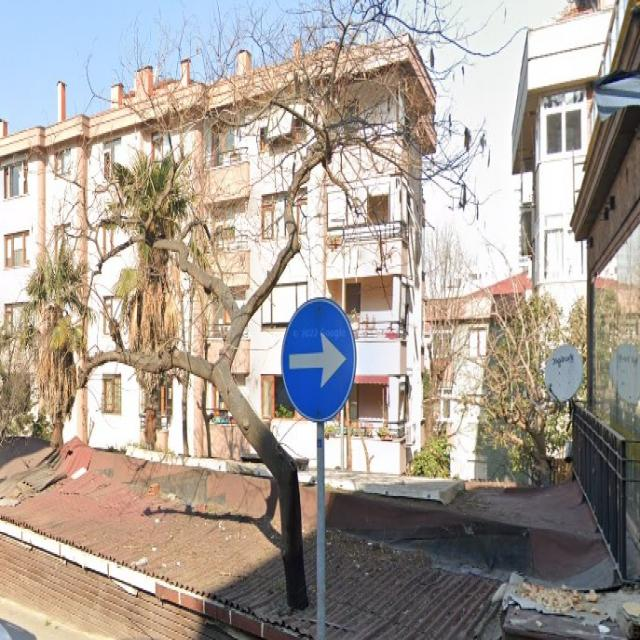Turn Right: (280, 293, 356, 430)
